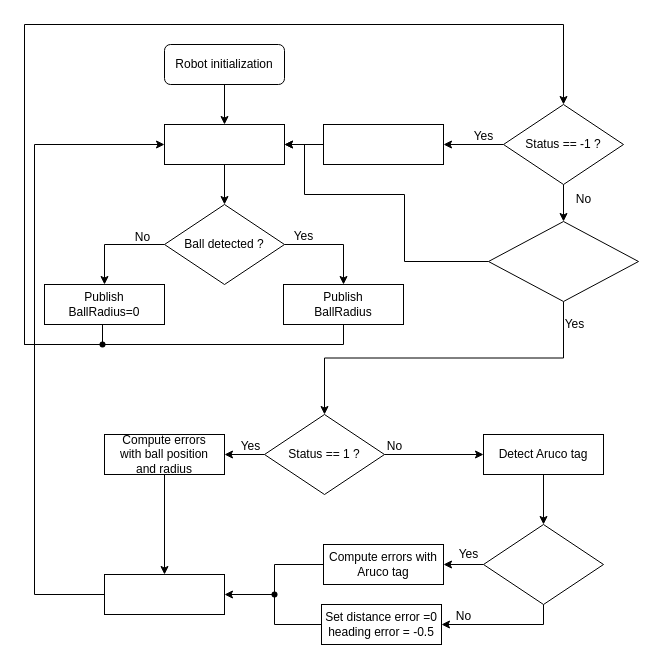
Some shapes in this 656 by 662 pixel diagram are drawn without their labels. Here are the shapes that lost their labels. From the top down, the centre of each, then its label:
pixel 224 144: Look for blue ball
pixel 383 144: Wait 0.5 s
pixel 563 261: Time since last command > 0.5 s ?
pixel 543 564: Aruco tag detected ?
pixel 164 594: Send errors to Arduino
